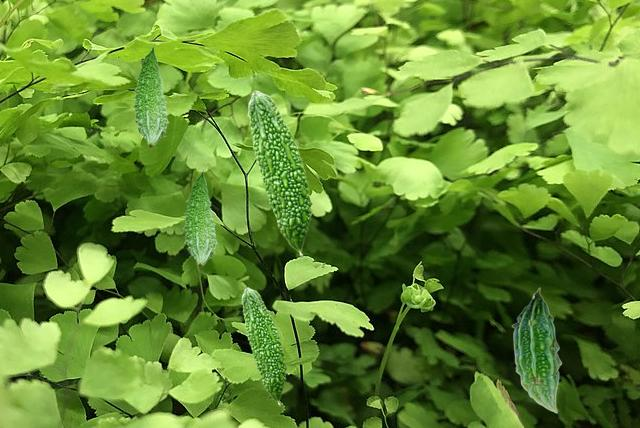ampalaya: (247, 90, 313, 258), (511, 287, 562, 414), (241, 287, 288, 406), (131, 44, 169, 148), (182, 169, 218, 268)
